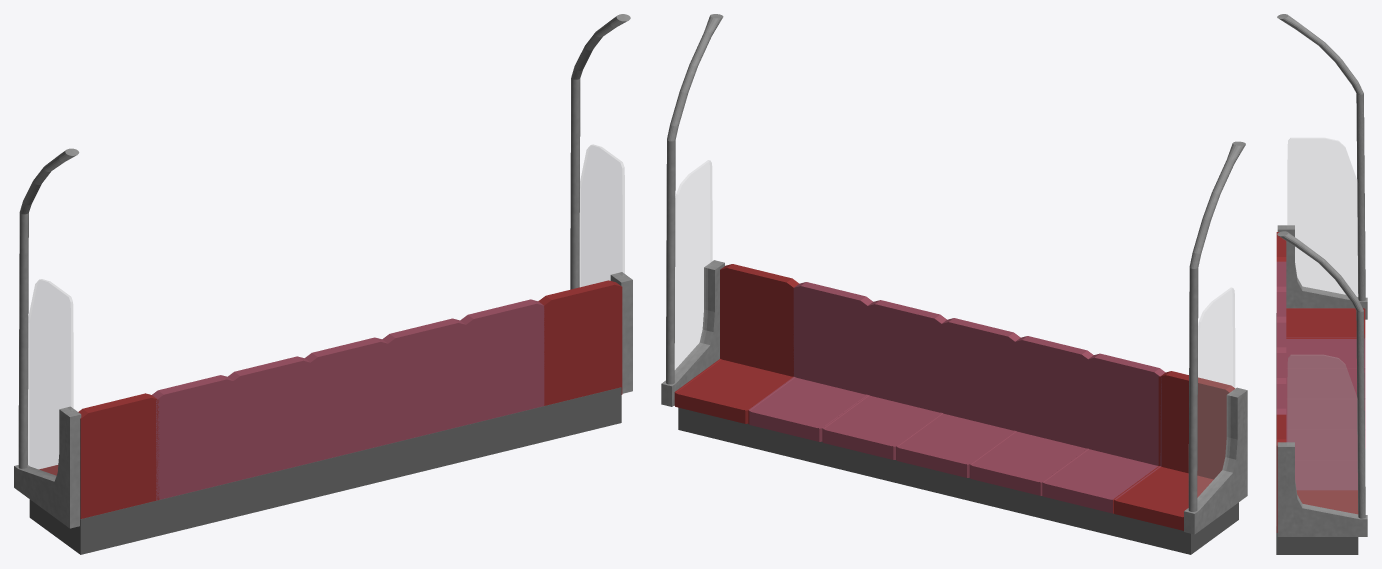
The model's file is mrt seat 1.fbx.
3 renders of one model, left to right at view 1: azimuth 30°, elevation 25°; view 2: azimuth 150°, elevation 25°; view 3: azimuth 270°, elevation 25°, orthographic. The views are drawn at different scales.
Visible parts, largest first — view 1: lean_pCube68; view 2: lean_pCube68; view 3: lean_pCube68.
Part boxes in pixels (box(x1,y1,x2,y2)): lean_pCube68: box(14, 14, 632, 554); lean_pCube68: box(661, 14, 1247, 554); lean_pCube68: box(1276, 14, 1367, 554).
Bounding box in the file's own units: 5.04 × 3.43 × 0.878.
Materials: 2 (1 with a texture image).
